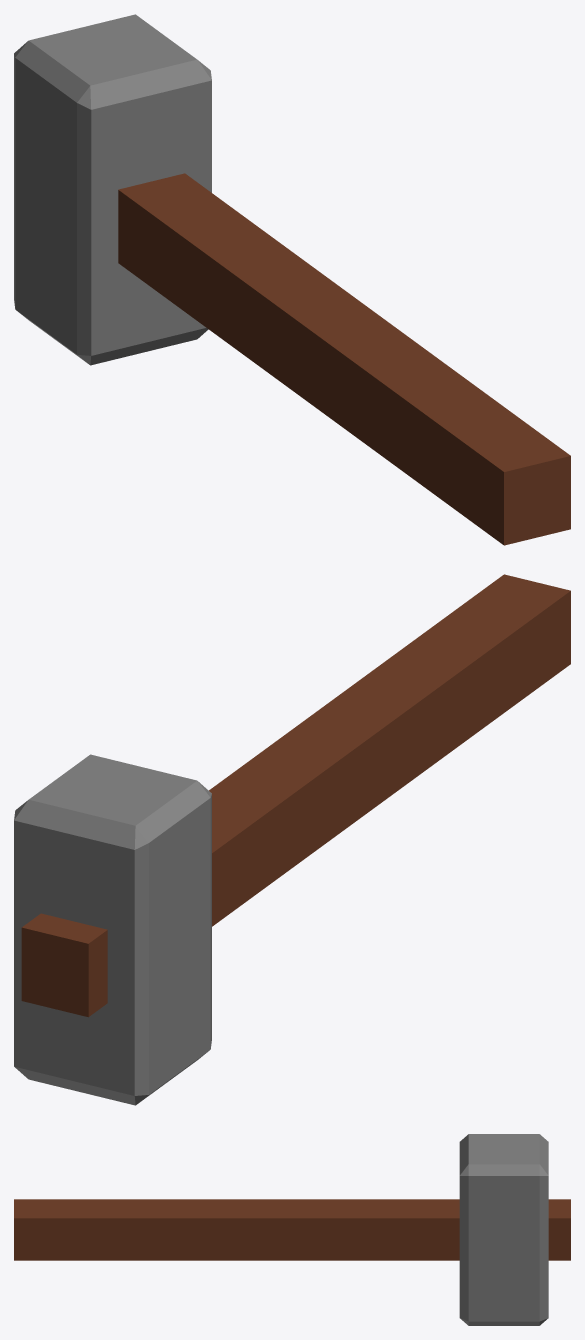
Rendered from Hammer.fbx.
3 renders of one model, top to bottom at view 1: azimuth 30°, elevation 25°; view 2: azimuth 150°, elevation 25°; view 3: azimuth 270°, elevation 25°, orthographic. The views are drawn at different scales.
Parts seen in each view (by area): view 1: Cube; view 2: Cube; view 3: Cube.
Part boxes in pixels (left/top/right/bottom): Cube: left=14, top=14, right=570, bottom=545; Cube: left=14, top=574, right=570, bottom=1105; Cube: left=14, top=1134, right=570, bottom=1325.
Size of the model in its own units: 200 by 400 by 1250.
